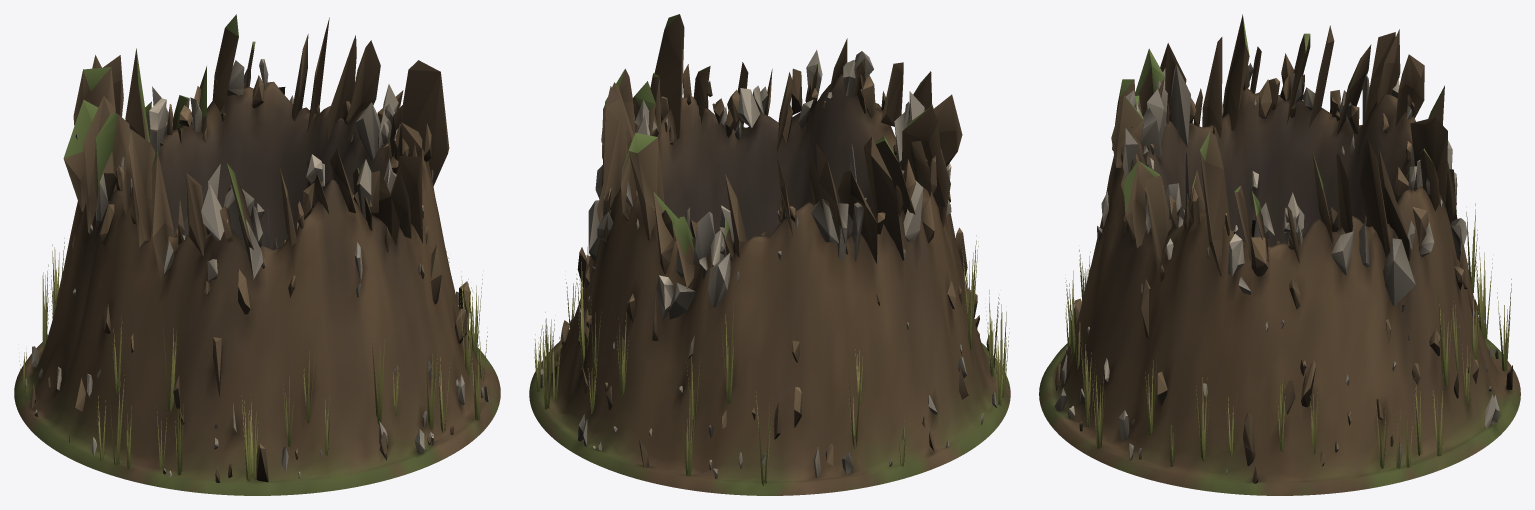
Rendered from crater.glb.
3 renders of one model, left to right at view 1: azimuth 30°, elevation 25°; view 2: azimuth 150°, elevation 25°; view 3: azimuth 270°, elevation 25°, orthographic.
Visible parts, largest first — view 1: crater; view 2: crater; view 3: crater.
Part boxes in pixels (left/top/right/bottom): crater: left=14, top=14, right=500, bottom=495; crater: left=529, top=14, right=1010, bottom=495; crater: left=1039, top=14, right=1520, bottom=495.
Size of the model in its own units: 1 by 0.7436 by 1.
